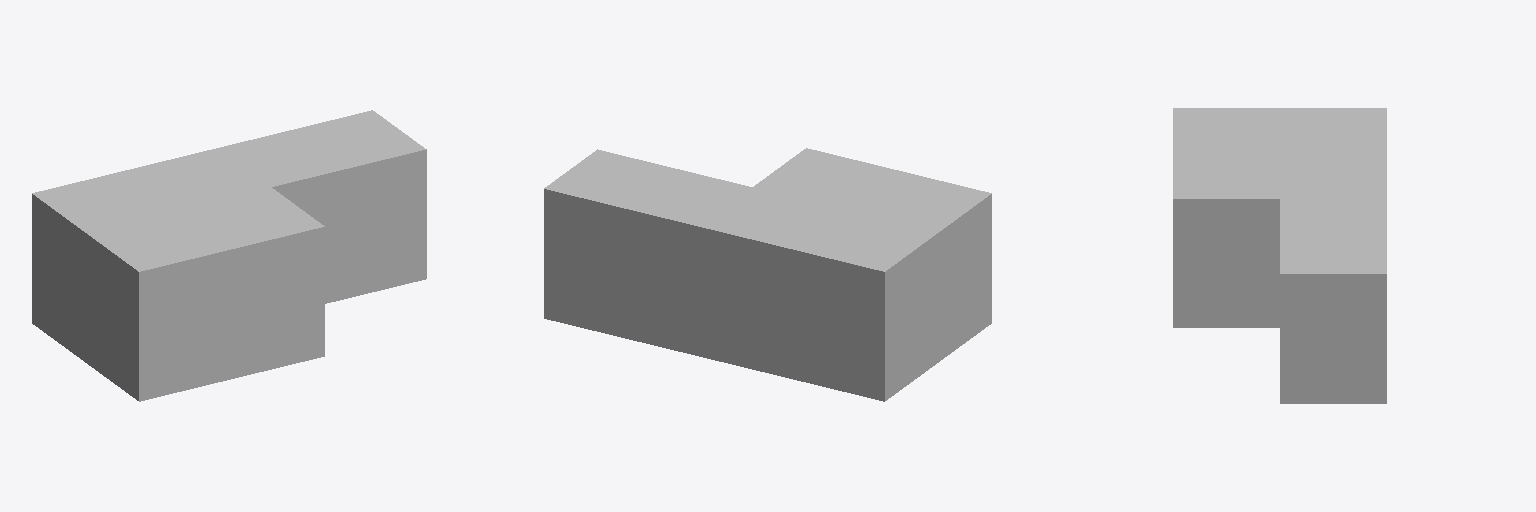
The model's file is map.obj.
3 views of the same model, side by side, from view 1: azimuth 30°, elevation 25°; view 2: azimuth 150°, elevation 25°; view 3: azimuth 270°, elevation 25° (orthographic).
Visible parts, largest first — view 1: Plane_Plane.001; view 2: Plane_Plane.001; view 3: Plane_Plane.001.
Boxes of the visible parts, <box> form: Plane_Plane.001: <box>32,110,426,401</box>; Plane_Plane.001: <box>544,148,991,401</box>; Plane_Plane.001: <box>1173,108,1386,403</box>.
Bounding box in the file's own units: 11 × 4 × 6.